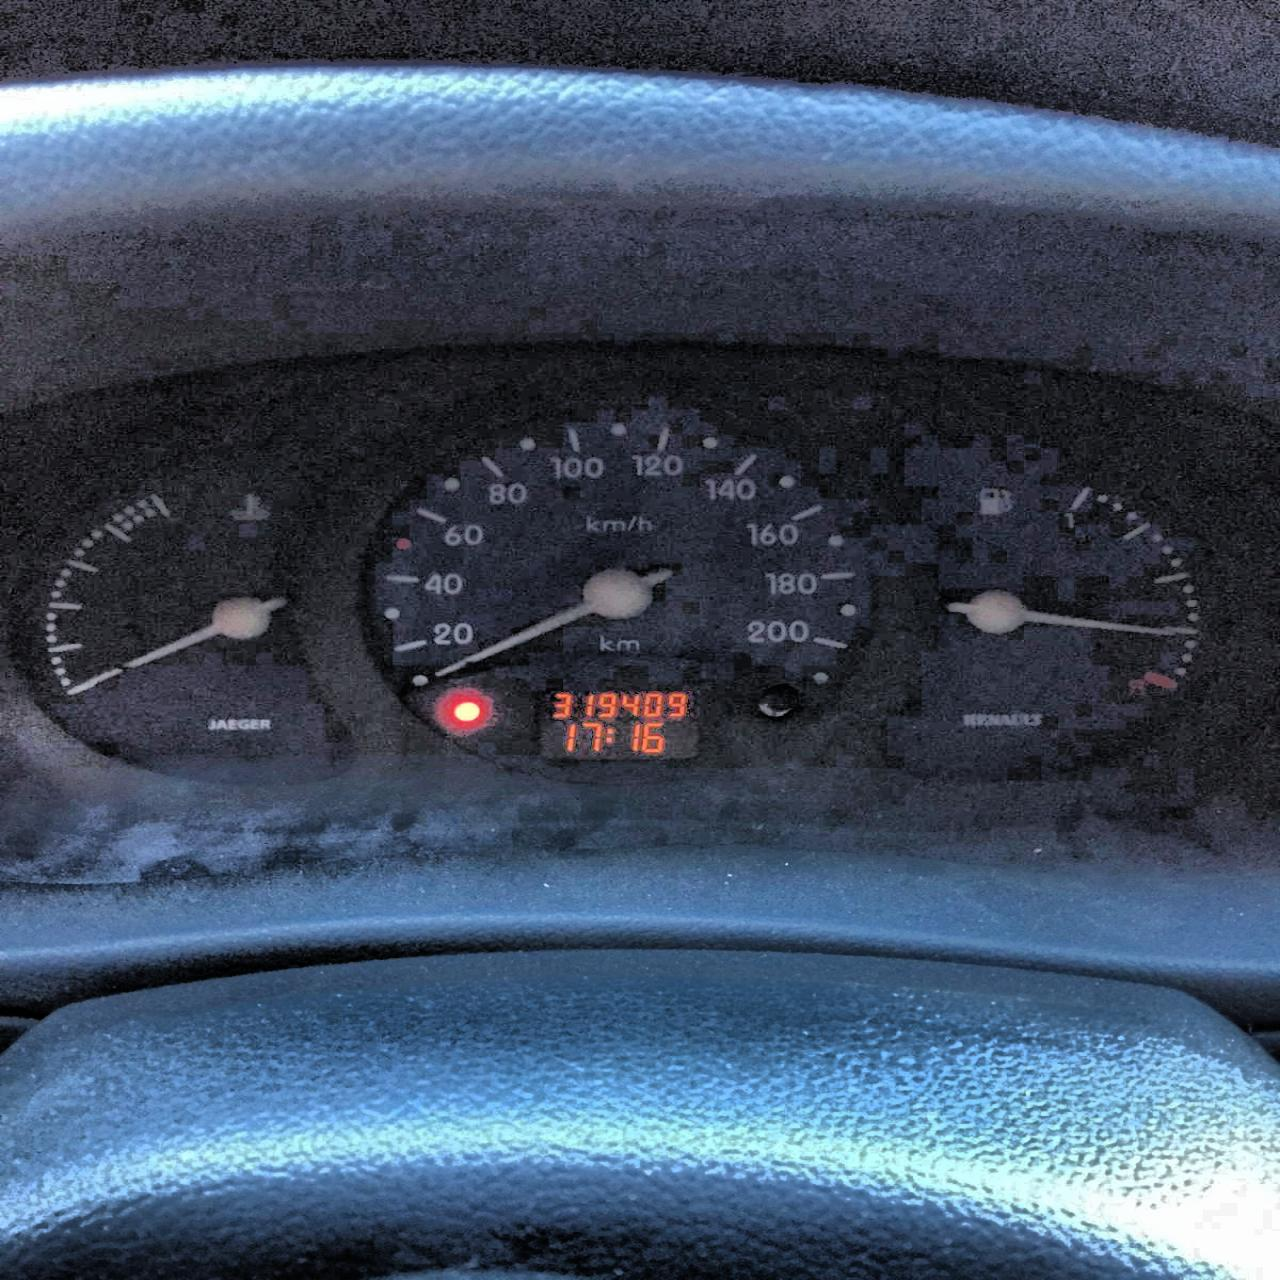0: (642, 693, 662, 717)
1: (565, 723, 574, 751), (631, 723, 639, 751), (585, 694, 593, 716)
3: (552, 693, 570, 717)
4: (620, 694, 639, 715)
6: (641, 722, 663, 753)
7: (581, 722, 600, 751)
9: (667, 692, 686, 716), (598, 693, 615, 717)
X: (605, 728, 613, 742)
odometer: (532, 685, 708, 763)
